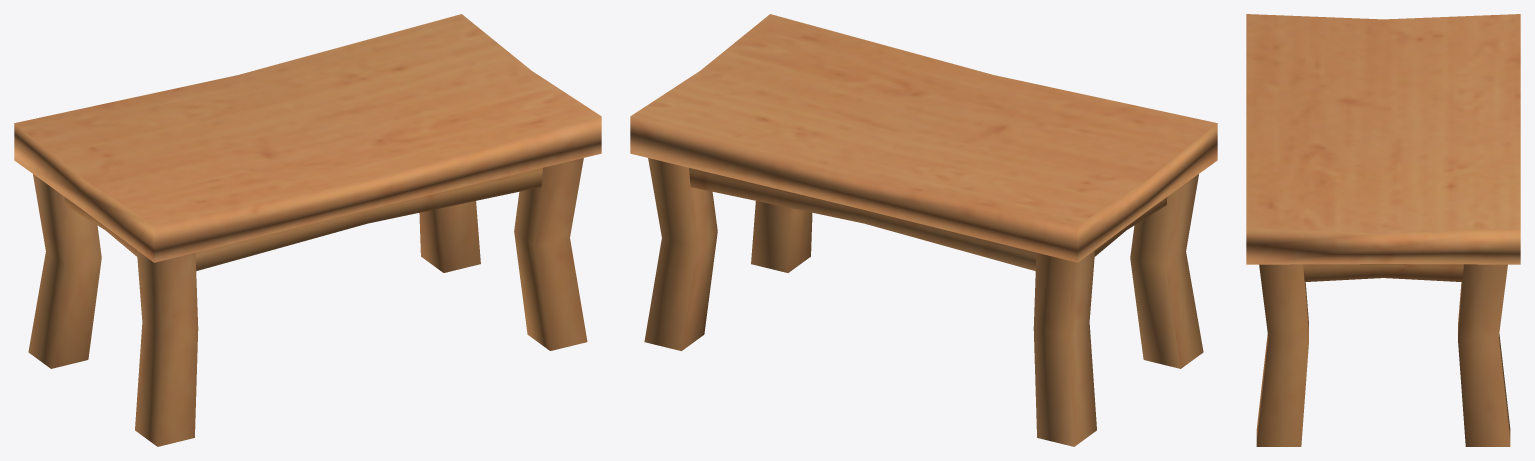
File: dinnerTable.fbx
3 views of the same model, side by side, from view 1: azimuth 30°, elevation 25°; view 2: azimuth 150°, elevation 25°; view 3: azimuth 270°, elevation 25° (orthographic).
Visible parts, largest first — view 1: dinner_table; view 2: dinner_table; view 3: dinner_table.
Boxes of the visible parts, <box> form: dinner_table: <box>14,14,601,446</box>; dinner_table: <box>630,14,1217,446</box>; dinner_table: <box>1246,14,1520,446</box>.
Bounding box in the file's own units: 200 × 97.08 × 108.
